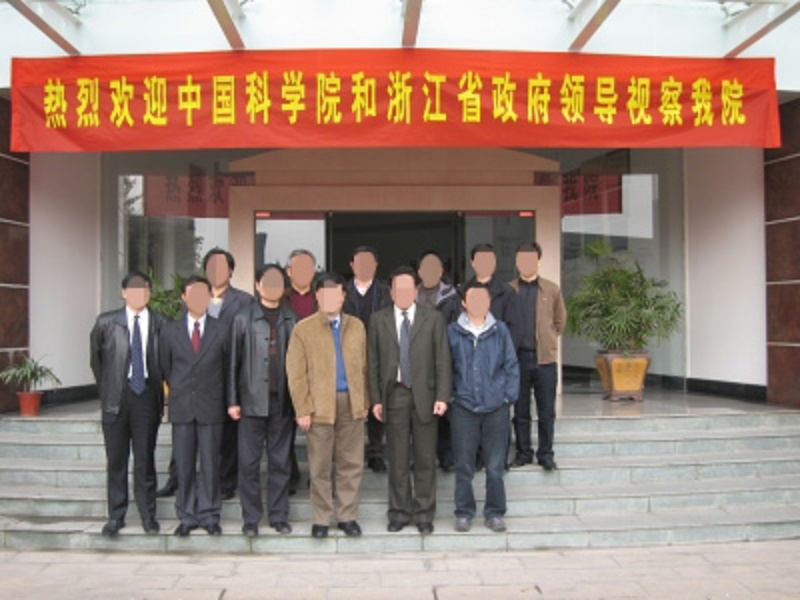text: (737, 71, 753, 131), (49, 71, 64, 131), (65, 71, 80, 131), (81, 71, 96, 131), (97, 71, 112, 131), (113, 71, 128, 131), (129, 71, 144, 131), (145, 71, 160, 131), (161, 71, 176, 131), (177, 71, 192, 131), (193, 71, 208, 131), (209, 71, 224, 131), (225, 71, 240, 131), (241, 71, 256, 131), (257, 71, 272, 131), (273, 71, 288, 131), (289, 71, 304, 131), (305, 71, 320, 131), (321, 71, 336, 131), (337, 71, 352, 131), (353, 71, 368, 131), (369, 71, 384, 131), (385, 71, 400, 131), (401, 71, 416, 131), (417, 71, 432, 131), (433, 71, 448, 131), (449, 71, 464, 131), (465, 71, 480, 131), (481, 71, 496, 131), (497, 71, 512, 131), (513, 71, 528, 131), (529, 71, 544, 131), (545, 71, 560, 131), (561, 71, 576, 131), (577, 71, 592, 131), (593, 71, 608, 131), (609, 71, 624, 131), (625, 71, 640, 131), (641, 71, 656, 131), (657, 71, 672, 131), (673, 71, 688, 131), (689, 71, 704, 131), (705, 71, 720, 131), (721, 71, 736, 131), (39, 71, 48, 131), (577, 171, 592, 203), (177, 175, 192, 205), (193, 175, 208, 205), (209, 175, 224, 205), (563, 171, 576, 203), (163, 175, 176, 205), (593, 171, 603, 203), (225, 175, 226, 205)
